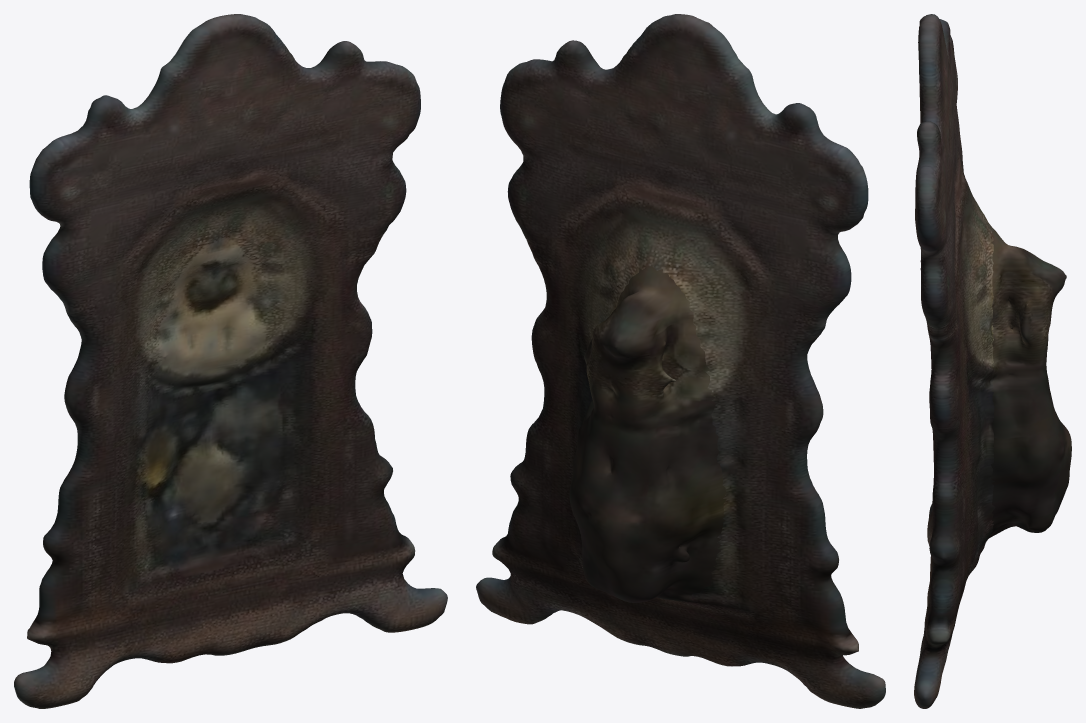
The model's file is kfl-2141.glb.
3 renders of one model, left to right at view 1: azimuth 30°, elevation 25°; view 2: azimuth 150°, elevation 25°; view 3: azimuth 270°, elevation 25°, orthographic. The views are drawn at different scales.
Visible parts, largest first — view 1: geometry_0; view 2: geometry_0; view 3: geometry_0.
Part boxes in pixels (box(x1,y1,x2,y2)): geometry_0: box(14, 14, 447, 708); geometry_0: box(476, 14, 885, 708); geometry_0: box(914, 14, 1071, 708).
Bounding box in the file's own units: 0.6698 × 0.9919 × 0.236.
Materials: 1 (1 with a texture image).
